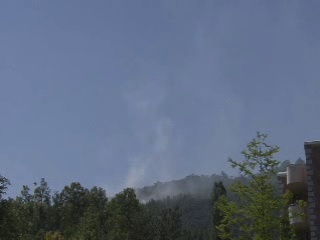smoke: (117, 106, 178, 204)
